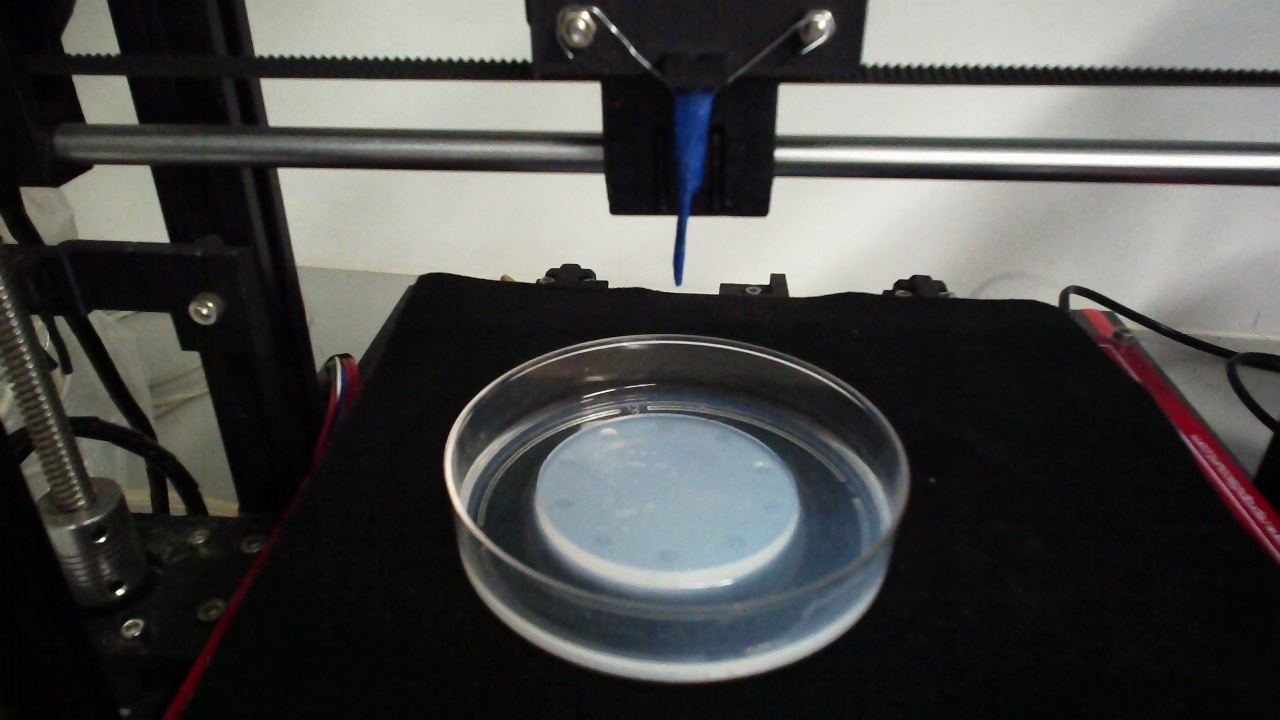groove: (759, 497, 783, 517), (658, 547, 681, 565), (724, 535, 750, 550), (552, 496, 574, 513), (588, 534, 612, 549), (597, 427, 620, 442), (712, 430, 736, 444), (556, 454, 576, 470), (655, 419, 675, 434), (751, 461, 772, 475)
needle: (672, 93, 712, 287)
